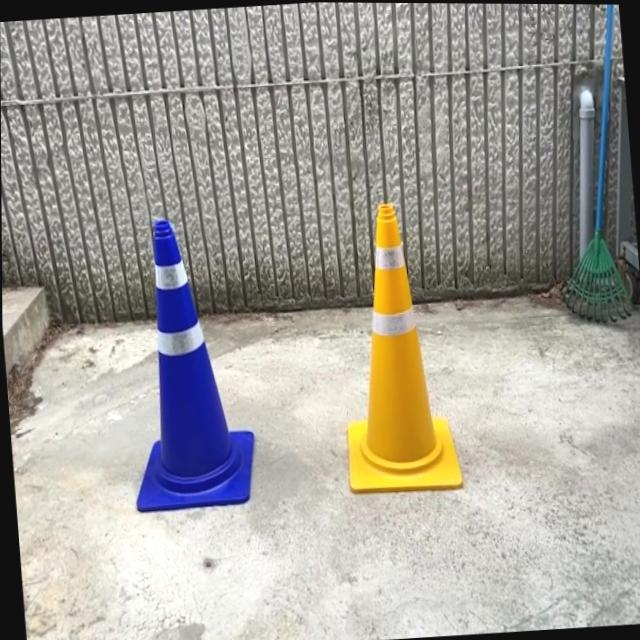b_rub: (135, 219, 252, 511)
y_rub: (348, 202, 462, 492)
